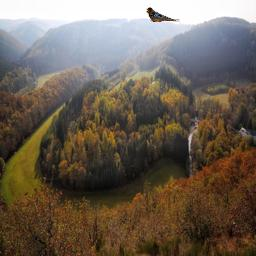Swallow: (146, 7, 180, 22)
